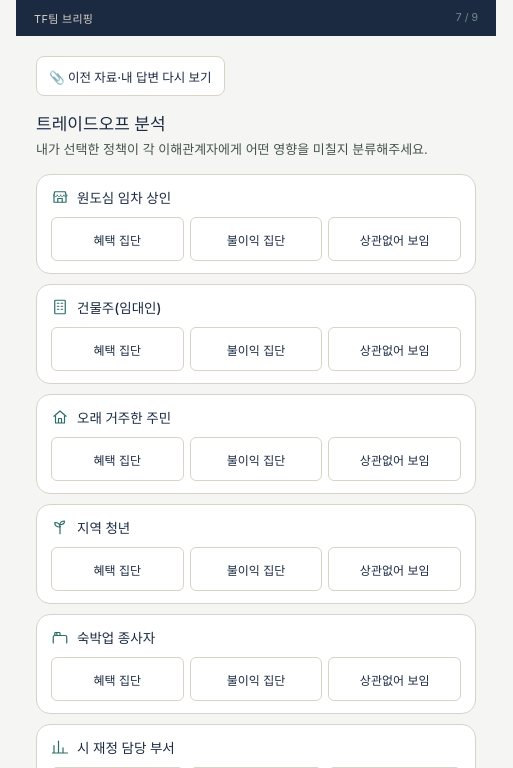
Test case: Step7 트레이드오프 분석 › 한 명씩 분류할 때마다 진행 카운트가 올라간다
Click the button "불이익 집단" below "원도심 임차 상인" at (256, 239), box x1=190 y1=217 x2=322 y2=261
(page scrolled)
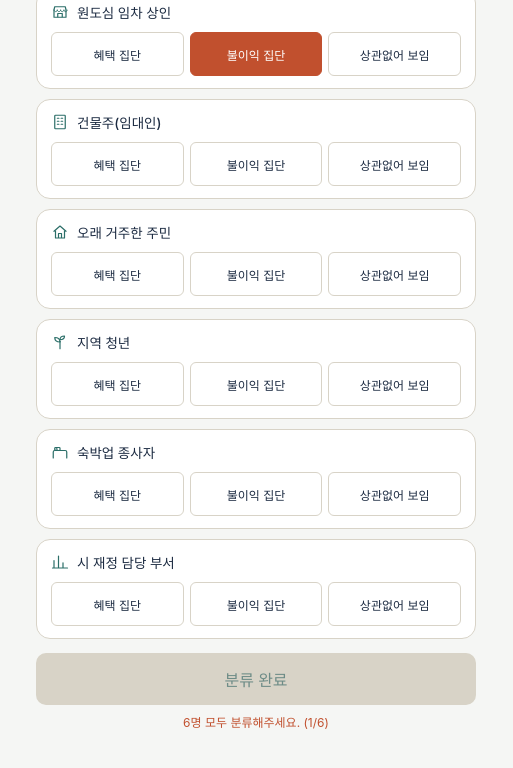
Now the text "6명 모두 분류해주세요. (1/6)" is shown, box x1=183 y1=715 x2=329 y2=730
